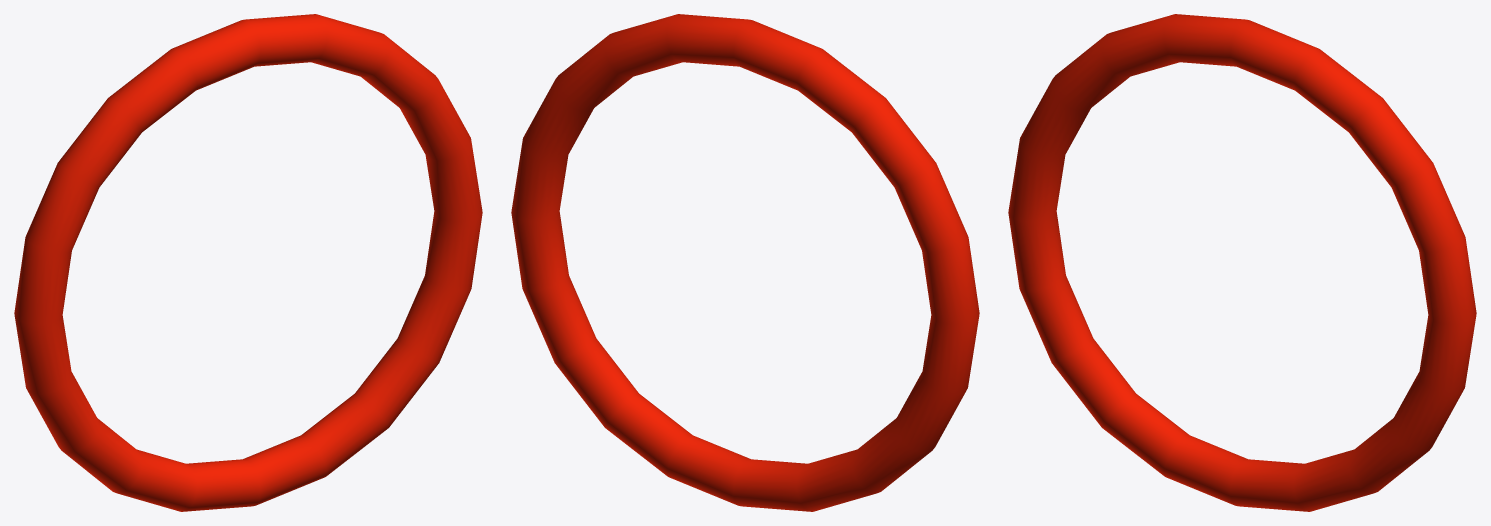
The model's file is blip.fbx.
3 renders of one model, left to right at view 1: azimuth 30°, elevation 25°; view 2: azimuth 150°, elevation 25°; view 3: azimuth 330°, elevation 25°, orthographic.
Parts seen in each view (by area): view 1: blip; view 2: blip; view 3: blip.
Part boxes in pixels (x1,y1,x2,y2): blip: [14, 14, 482, 511]; blip: [511, 14, 979, 511]; blip: [1008, 14, 1476, 511].
Bounding box in the file's own units: 0.0022 × 0.0022 × 0.0002.
